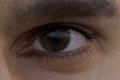eye: (40, 28, 72, 51)
